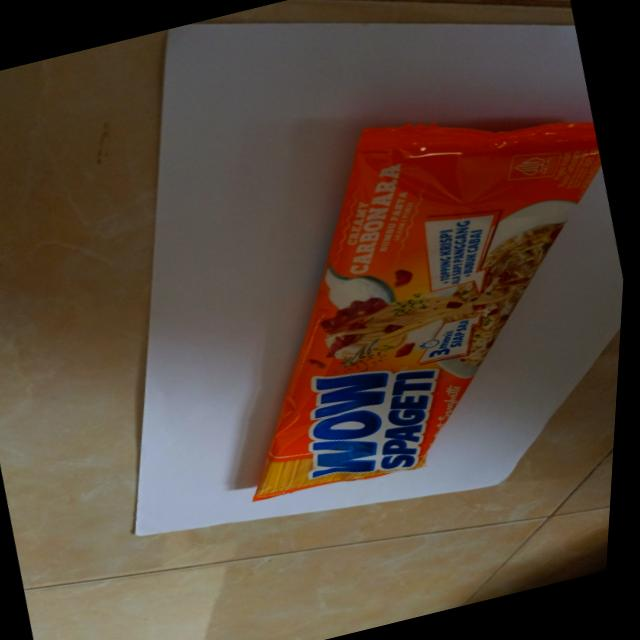indomie-tori-miso: (170, 73, 637, 510)
